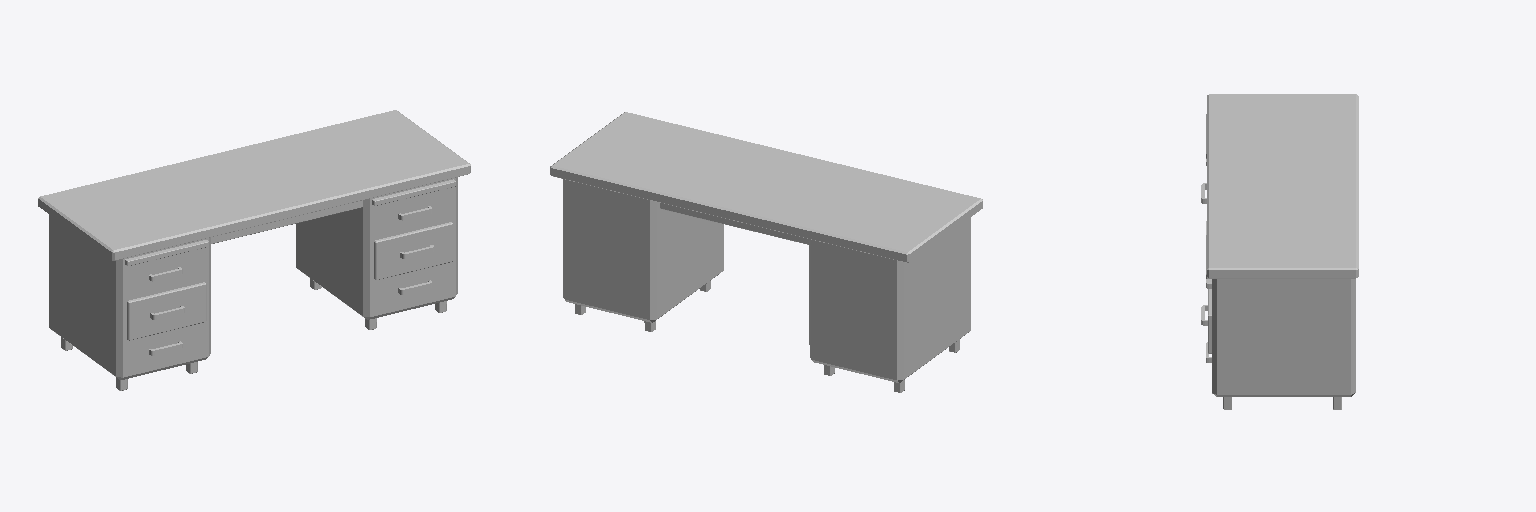
File: Desk.obj
The picture shows the model from 3 angles: view 1: azimuth 30°, elevation 25°; view 2: azimuth 150°, elevation 25°; view 3: azimuth 270°, elevation 25°; orthographic projection.
Visible parts, largest first — view 1: Desk_Top, Desk_Cabinets, Desk_Details; view 2: Desk_Cabinets, Desk_Top, Desk_Details; view 3: Desk_Top, Desk_Cabinets, Desk_Details.
Part boxes in pixels (bbox=[...]): Desk_Top: bbox=[38, 110, 470, 260]; Desk_Cabinets: bbox=[49, 177, 457, 379]; Desk_Details: bbox=[61, 179, 455, 390]; Desk_Cabinets: bbox=[563, 179, 970, 382]; Desk_Top: bbox=[550, 112, 982, 262]; Desk_Details: bbox=[575, 281, 959, 392]; Desk_Top: bbox=[1207, 94, 1358, 278]; Desk_Cabinets: bbox=[1212, 279, 1355, 396]; Desk_Details: bbox=[1201, 114, 1341, 409].
Bounding box in the file's own units: 70.6 × 28.11 × 26.71.